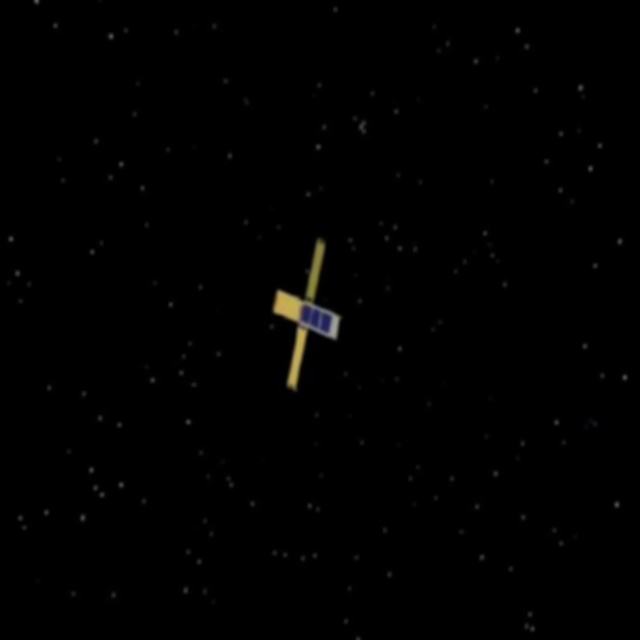satellite: (258, 231, 358, 398)
